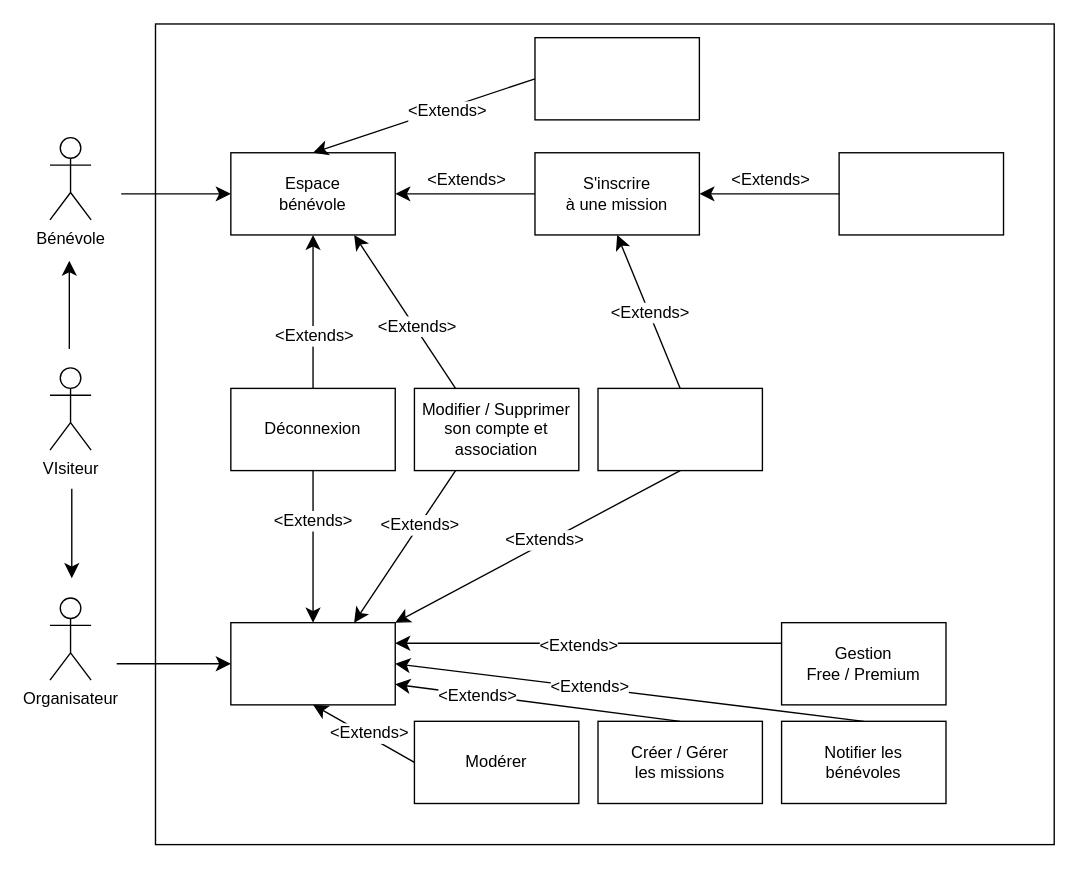
This 1078x869 diagram has some shape labels left out. The centre of each missing label's shape, as x and y in pixels:
"Communiquer - Chat de mission" belongs at pixel 679 429.
"Espace organisateur" belongs at pixel 312 663.
"Rejoindre une association" belongs at pixel 616 78.
"Se désister" belongs at pixel 921 193.
